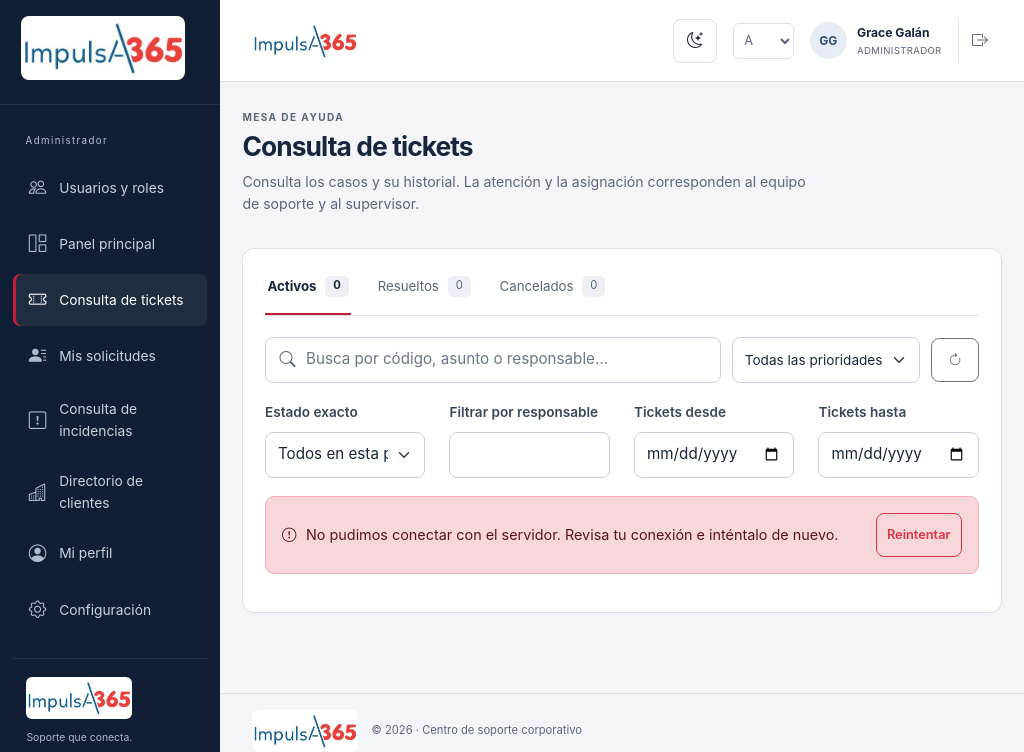
Migración React › muestra error de red con reintento y no aparenta un listado vacío
Expected: the message shows "No pudimos conectar", [306,526,838,544]
Step 1. Click the button "Reintentar" → x=919, y=535, box [876,513,962,557]
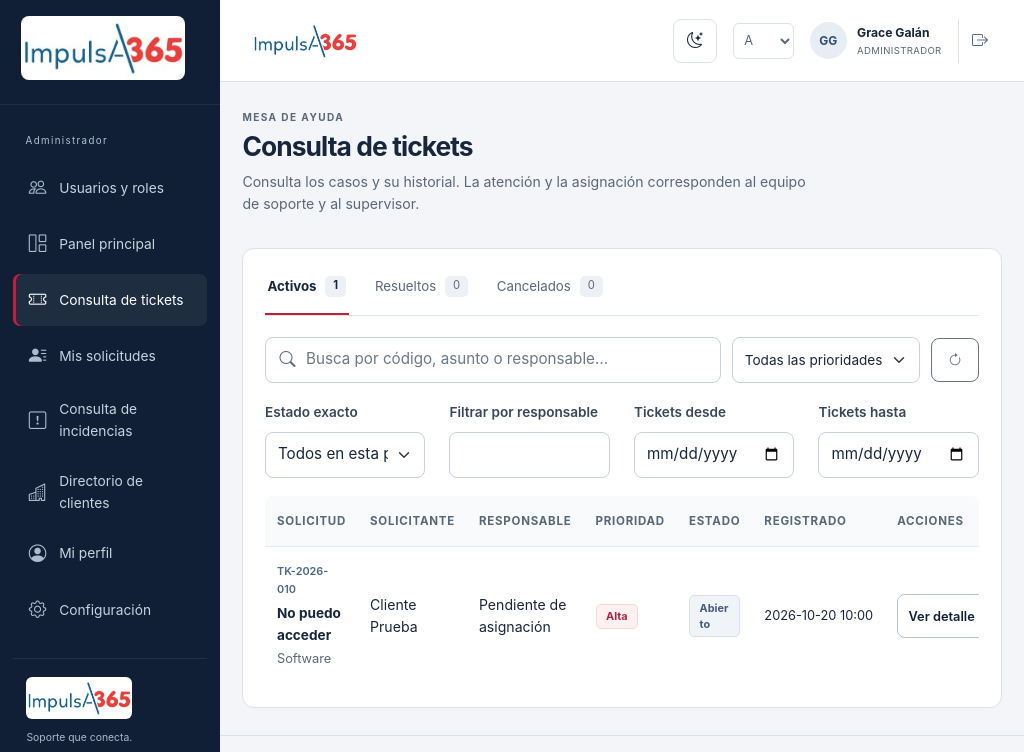
Expected: the text "No puedo acceder" is shown, [277,603,346,646]
